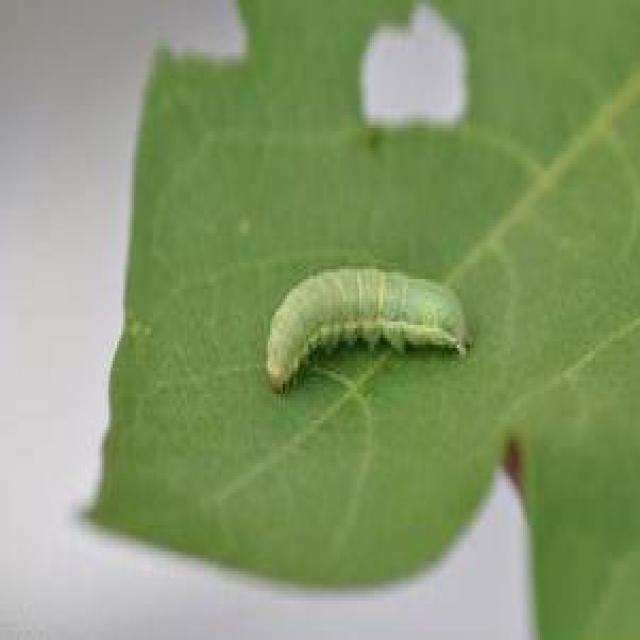BeetArmyWorm-Larva-: (246, 244, 488, 420)
